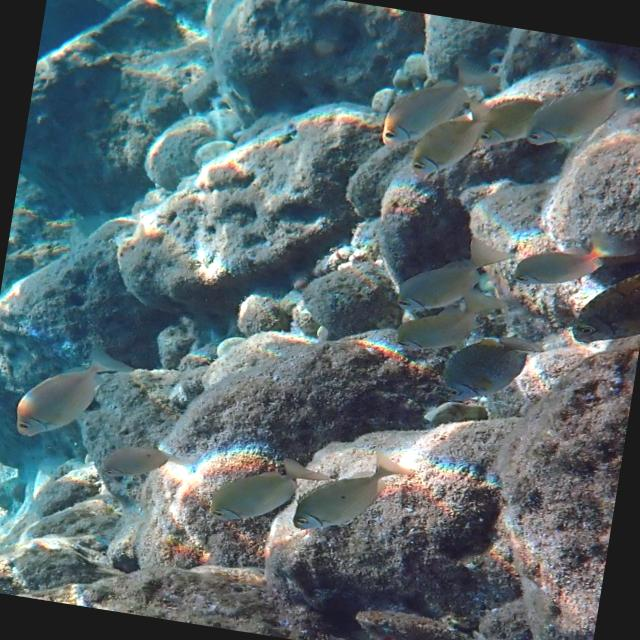Sokar Baligi: (0, 326, 146, 459), (359, 43, 514, 167), (517, 37, 640, 168), (286, 438, 424, 554), (388, 220, 520, 332)
